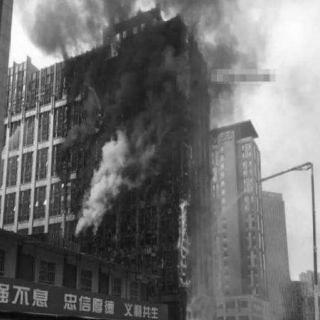Fire: (177, 20, 201, 284), (103, 34, 120, 60)
